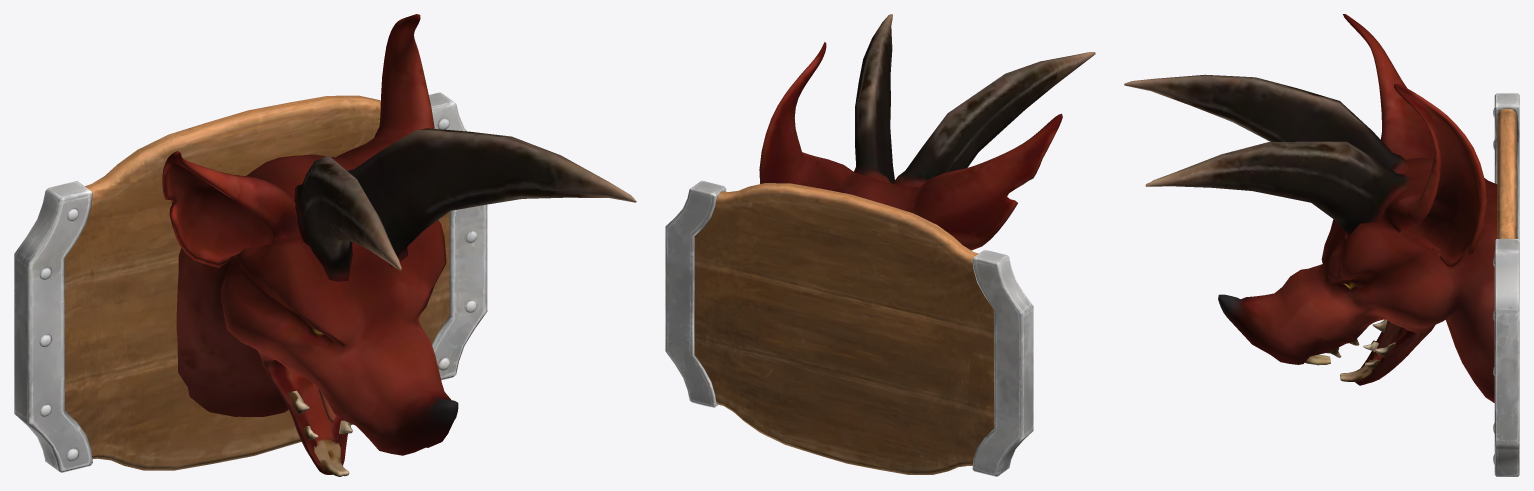
The picture shows the model from 3 angles, left to right: view 1: azimuth 30°, elevation 25°; view 2: azimuth 150°, elevation 25°; view 3: azimuth 270°, elevation 25°; orthographic projection. The views are drawn at different scales.
Visible parts, largest first — view 1: SM_Trophy_Plaque_HellRat_LOD0; view 2: SM_Trophy_Plaque_HellRat_LOD0; view 3: SM_Trophy_Plaque_HellRat_LOD0.
Boxes of the visible parts, left/top/right/bottom form: SM_Trophy_Plaque_HellRat_LOD0: left=14, top=14, right=636, bottom=476; SM_Trophy_Plaque_HellRat_LOD0: left=665, top=14, right=1095, bottom=476; SM_Trophy_Plaque_HellRat_LOD0: left=1124, top=14, right=1519, bottom=476.
Bounding box in the file's own units: 0.6514 × 0.6295 × 0.5906.
2 materials, 2 textured.
